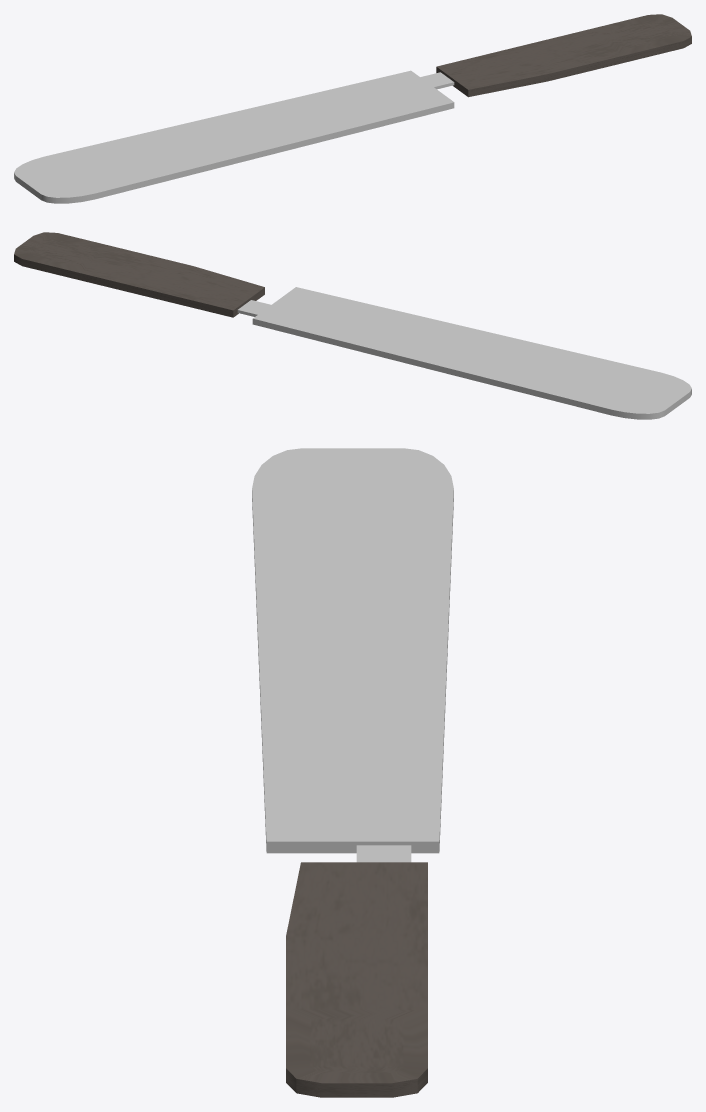
File: weapon.fbx
3 views of the same model, one above another, from view 1: azimuth 30°, elevation 25°; view 2: azimuth 150°, elevation 25°; view 3: azimuth 270°, elevation 25° (orthographic). The views are drawn at different scales.
Visible parts, largest first — view 1: pCube195; view 2: pCube195; view 3: pCube195.
Boxes of the visible parts, <box> form: pCube195: <box>14,14,691,203</box>; pCube195: <box>14,232,691,419</box>; pCube195: <box>252,448,453,1097</box>.
Size of the model in its own units: 0.5155 by 0.00551 by 0.0691.
Materials: 1 (1 with a texture image).
